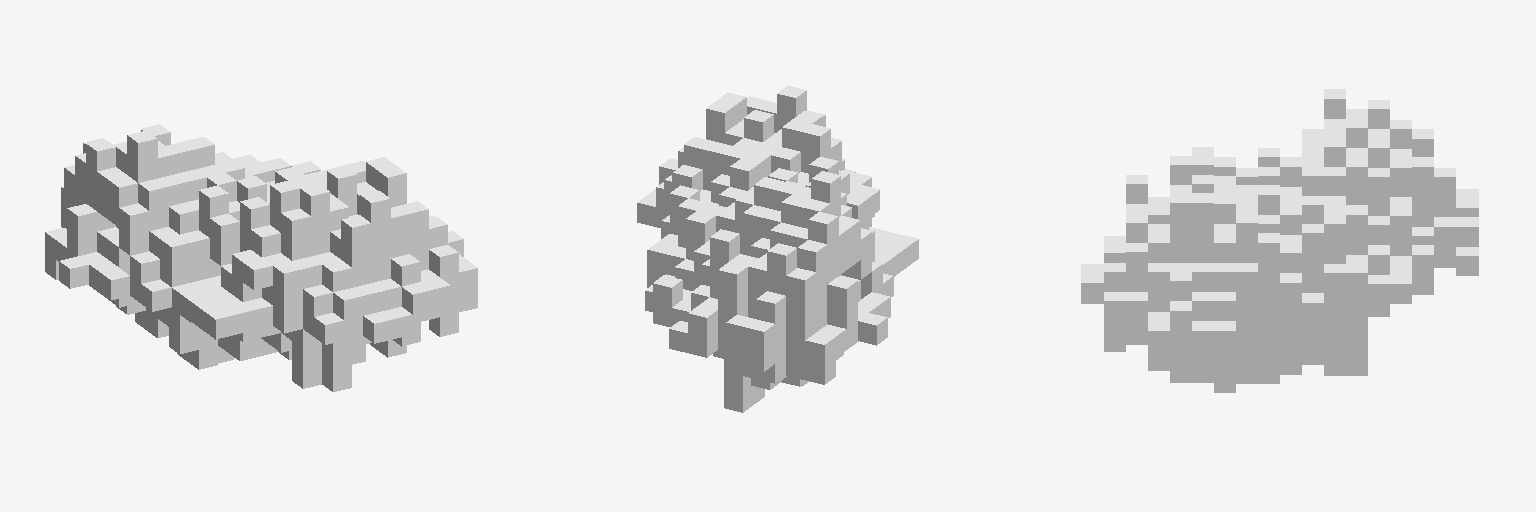
Rendered from Cloud-4.obj.
The picture shows the model from 3 angles: view 1: azimuth 30°, elevation 25°; view 2: azimuth 150°, elevation 25°; view 3: azimuth 270°, elevation 25°; orthographic projection.
Parts seen in each view (by area): view 1: object 1; view 2: object 1; view 3: object 1.
Boxes of the visible parts, <box> form: object 1: <box>45,124,477,391</box>; object 1: <box>637,86,918,412</box>; object 1: <box>1081,89,1478,392</box>.
Size of the model in its own units: 1.6 by 1.2 by 1.8.